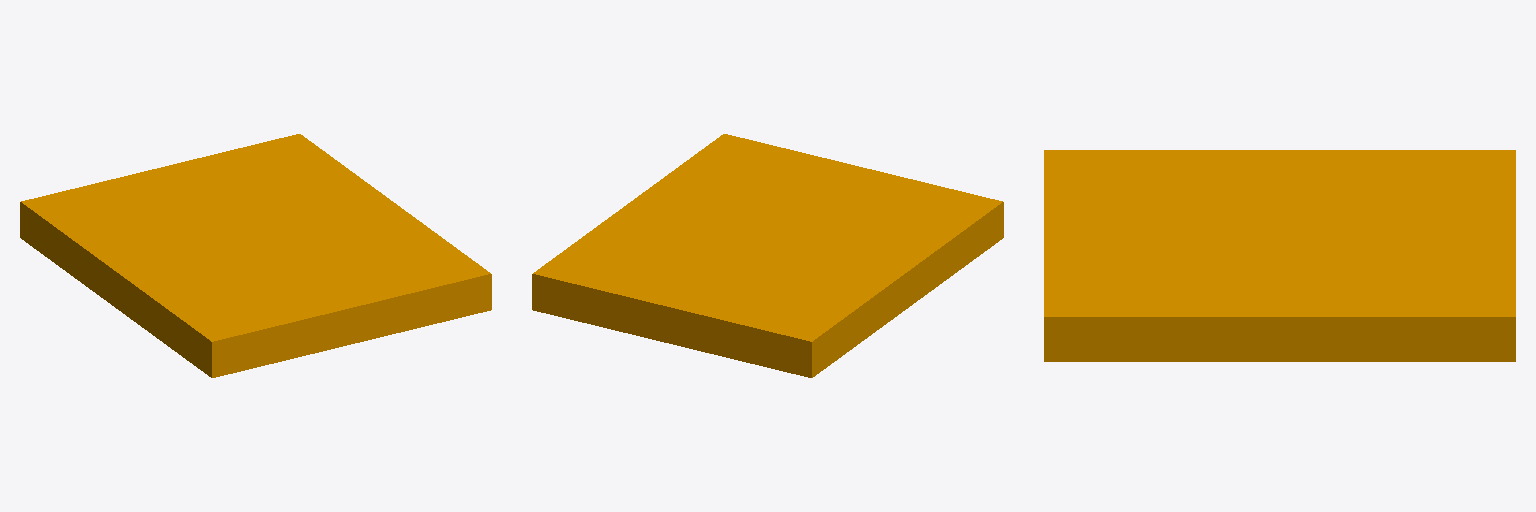
robot.urdf — red_box:
<?xml version="1.0"?>
<robot name="red_box">

<link name="box_link">
  <collision>
    <origin xyz="0 0 0.02" rpy="0 0 0"/>
    <geometry>
      <box size="0.80 0.95 0.10" />
    </geometry>
  </collision>

  <visual>
    <origin xyz="0 0 0.02" rpy="0 0 0"/>
    <geometry>
      <box size="0.80 0.95 0.10" />
    </geometry>
  </visual>

  <inertial>
    <origin xyz="0 0 0.02" rpy="0 0 0" />
    <mass value="0.001" />
    <inertia
      ixx="0.001" ixy="0.0"  ixz="0.0"
      iyy="0.001" iyz="0.0"
      izz="0.001" />
  </inertial>
  </link>

<gazebo reference="box_link">
  <material>Gazebo/Blue</material>
    <mu1>5</mu1>
    <mu2>5</mu2>
</gazebo>

</robot>

--- What the picture shows (computed from the rendered views, not written in the file) ---
Views: 3 orthographic renders of the robot side by side, from view 1: azimuth 30°, elevation 25°; view 2: azimuth 150°, elevation 25°; view 3: azimuth 270°, elevation 25°.
Robot: red_box — 1 links, 0 joints (none); root link box_link; default pose: all joints at 0.
Links seen in each view (by area): view 1: box_link; view 2: box_link; view 3: box_link.
Boxes of the visible links, x1,y1,x2,y2 form: box_link: [20, 134, 491, 377]; box_link: [532, 134, 1003, 377]; box_link: [1044, 150, 1515, 361].
Bounding box of the posed robot: 0.8 × 0.95 × 0.1 m (x, y, z).
Geometry: primitives only (box / cylinder / sphere), no mesh files.
